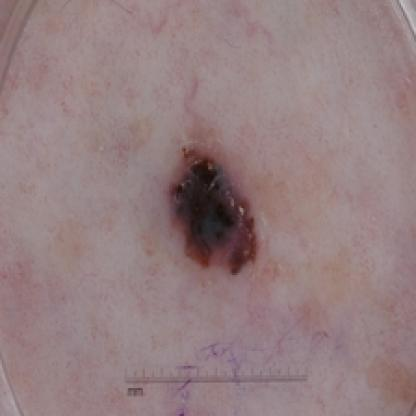Skin_Cancer-Malignant: (165, 146, 260, 274)
